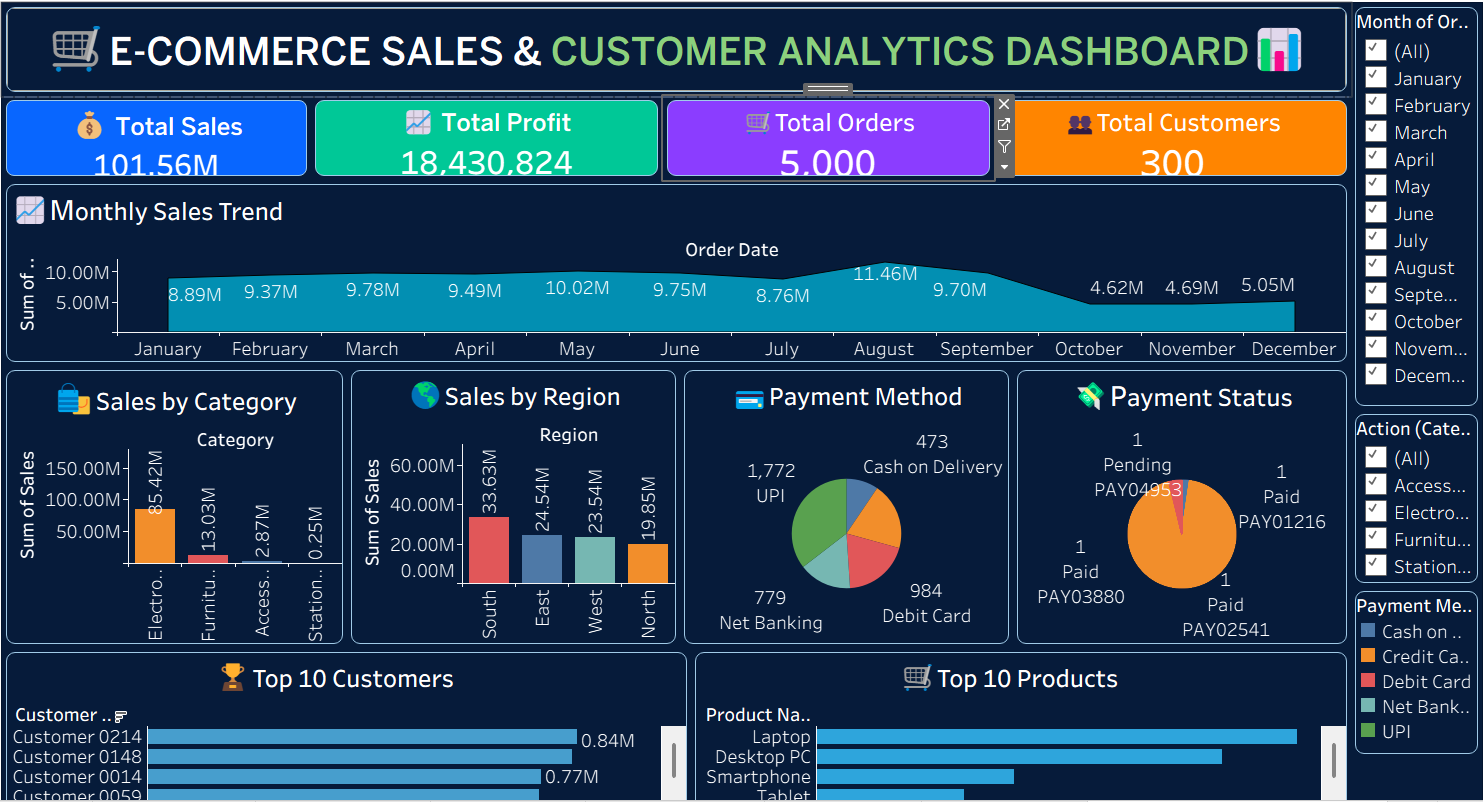

What the dashboard file says about the page in this screenshot:
{"tool":"tableau","page":{"name":"E-COMMERCE SALES & CUSTOMER ANALYTICS DASHBOARD","canvas":[1498,906],"ordinal":1},"visuals":[{"type":"title","box":[9,9,1349,93]},{"type":"filter","title":"Monthly Sales Trend","param":"[federated.156bps91mkamk712r5db50pus4qu].[mn:Order_Date:ok]","box":[1358,9,131,407]},{"type":"worksheet","title":"TOTAL SALES","mark":"Automatic","box":[9,102,309.1,84.2]},{"type":"worksheet","title":"TOAL PROFIT","mark":"Automatic","box":[318.1,102,351.4,84.2]},{"type":"worksheet","title":"Total Orders","mark":"Automatic","box":[669.5,102,331.2,84.2]},{"type":"worksheet","title":"TOTAL CUSTOMERS","mark":"Automatic","box":[1000.8,102,357.2,84.2]},{"type":"worksheet","title":"Monthly Sales Trend","mark":"Area","rows":["Sales"],"cols":["Order_Date"],"box":[9,186.2,1349,185.6]},{"type":"worksheet","title":"Sales by Category","mark":"Bar","rows":["Sales"],"cols":["Category"],"box":[9,371.8,344.9,282]},{"type":"worksheet","title":"Sales by Region","mark":"Automatic","rows":["Sales"],"cols":["Region"],"box":[353.9,371.8,333.3,282]},{"type":"worksheet","title":"Payment Method","mark":"Pie","box":[687.2,371.8,333.2,282]},{"type":"worksheet","title":"Payment Status","mark":"Pie","box":[1020.4,371.8,337.6,282]},{"type":"filter","title":"Sales by Region","param":"[federated.156bps91mkamk712r5db50pus4qu].[Action (Category)]","box":[1358,416,131,176]},{"type":"legend","title":"Payment Method","param":"[federated.156bps91mkamk712r5db50pus4qu].[none:Payment_Method:nk]","box":[1358,592,131,171]},{"type":"worksheet","title":"Top 10 Customers","mark":"Automatic","rows":["Customer_Name"],"cols":["Sales"],"box":[9,653.7,688.7,243.3]},{"type":"worksheet","title":"Top 10 Products","mark":"Bar","rows":["Product_Name"],"cols":["Sales"],"box":[697.7,653.7,660.3,243.3]},{"type":"legend","title":"Sales by Category","param":"[federated.156bps91mkamk712r5db50pus4qu].[none:Category:nk]","box":[1358,763,131,134]}]}

Visuals, with their boxes on the page's 1498x906 design canvas (x1, y1, x2, y2). These are canvas units, not pixel positions in the 1483x802 screenshot, which may show the page scaled, cropped or inside an application window:
title: 9,9,1358,102
"Monthly Sales Trend" filter: 1358,9,1489,416
"TOTAL SALES" worksheet: 9,102,318,186
"TOAL PROFIT" worksheet: 318,102,670,186
"Total Orders" worksheet: 670,102,1001,186
"TOTAL CUSTOMERS" worksheet: 1001,102,1358,186
"Monthly Sales Trend" worksheet (Area marks): 9,186,1358,372
"Sales by Category" worksheet (Bar marks): 9,372,354,654
"Sales by Region" worksheet: 354,372,687,654
"Payment Method" worksheet (Pie marks): 687,372,1020,654
"Payment Status" worksheet (Pie marks): 1020,372,1358,654
"Sales by Region" filter: 1358,416,1489,592
"Payment Method" legend: 1358,592,1489,763
"Top 10 Customers" worksheet: 9,654,698,897
"Top 10 Products" worksheet (Bar marks): 698,654,1358,897
"Sales by Category" legend: 1358,763,1489,897
